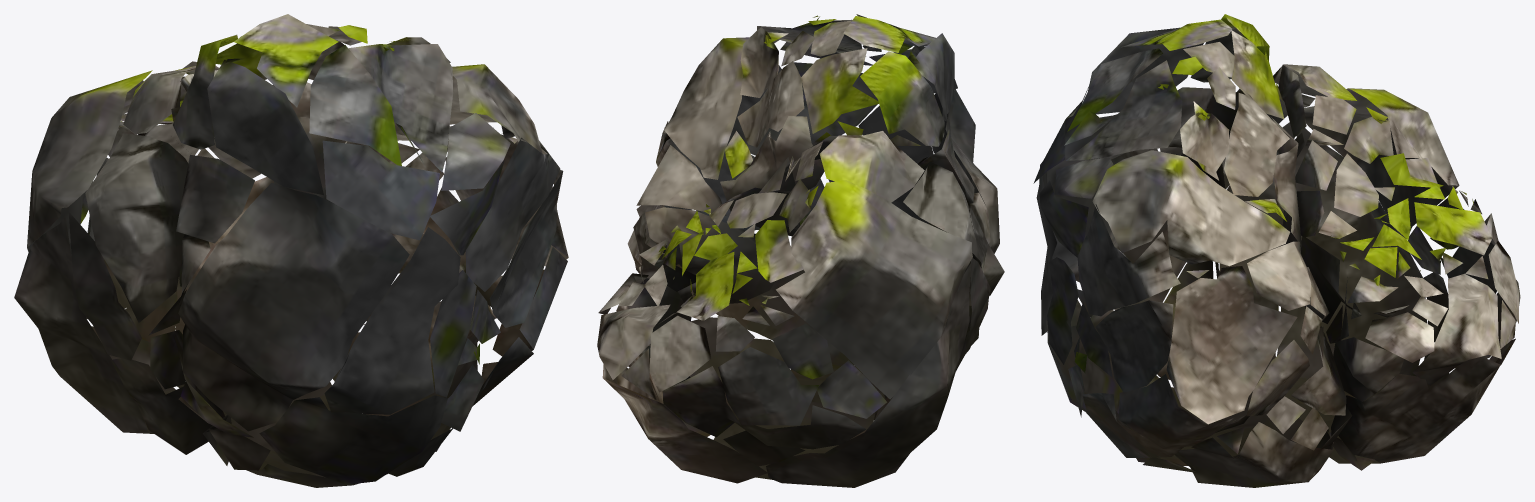
Rendered from masso_spaccato.glb.
3 renders of one model, left to right at view 1: azimuth 30°, elevation 25°; view 2: azimuth 150°, elevation 25°; view 3: azimuth 270°, elevation 25°, orthographic. The views are drawn at different scales.
Visible parts, largest first — view 1: masso_spaccato; view 2: masso_spaccato; view 3: masso_spaccato.
Part boxes in pixels (left/top/right/bottom): masso_spaccato: left=14, top=14, right=568, bottom=487; masso_spaccato: left=597, top=14, right=1004, bottom=487; masso_spaccato: left=1033, top=14, right=1520, bottom=487.
Size of the model in its own units: 0.9592 by 0.9013 by 0.9978.
Materials: 1 (1 with a texture image).
